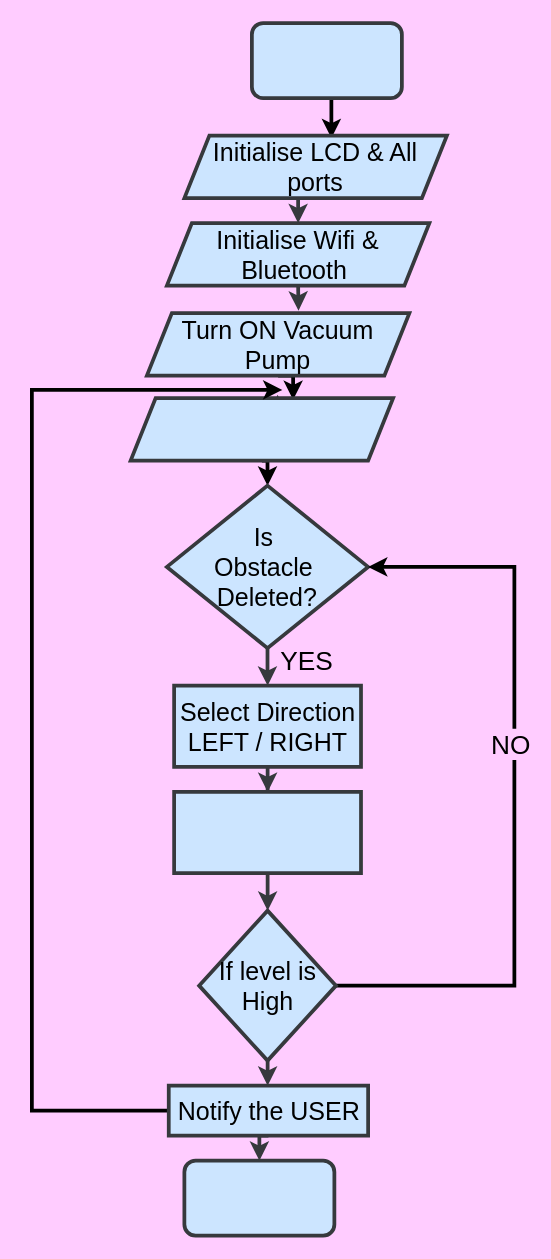
Image size: 551x1259. Some labels were removed from this diagram. Each missing label, with the centre of its shape:
Check Garbage Level: point 267,831
START: point 326,60
Start Robot Forward movement: point 261,429
STOP: point 259,1197
